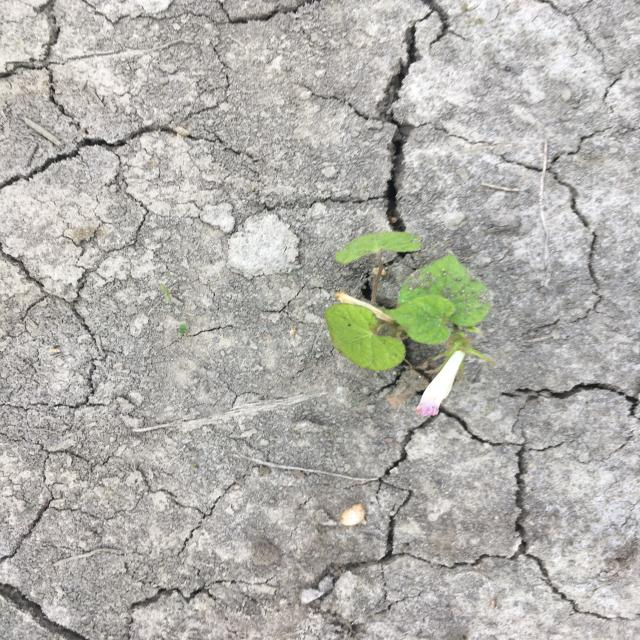MorningGlory: (324, 229, 494, 372)
